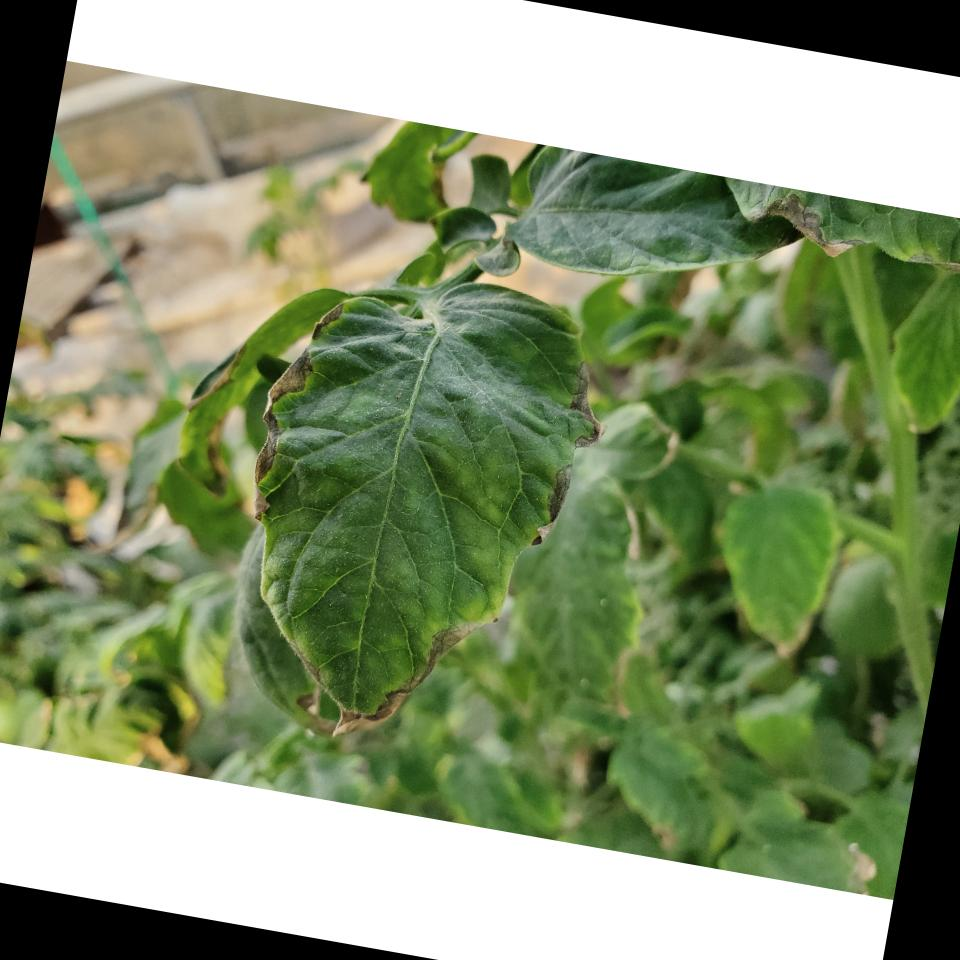tomato_bacterial_blight: (200, 236, 627, 765)
